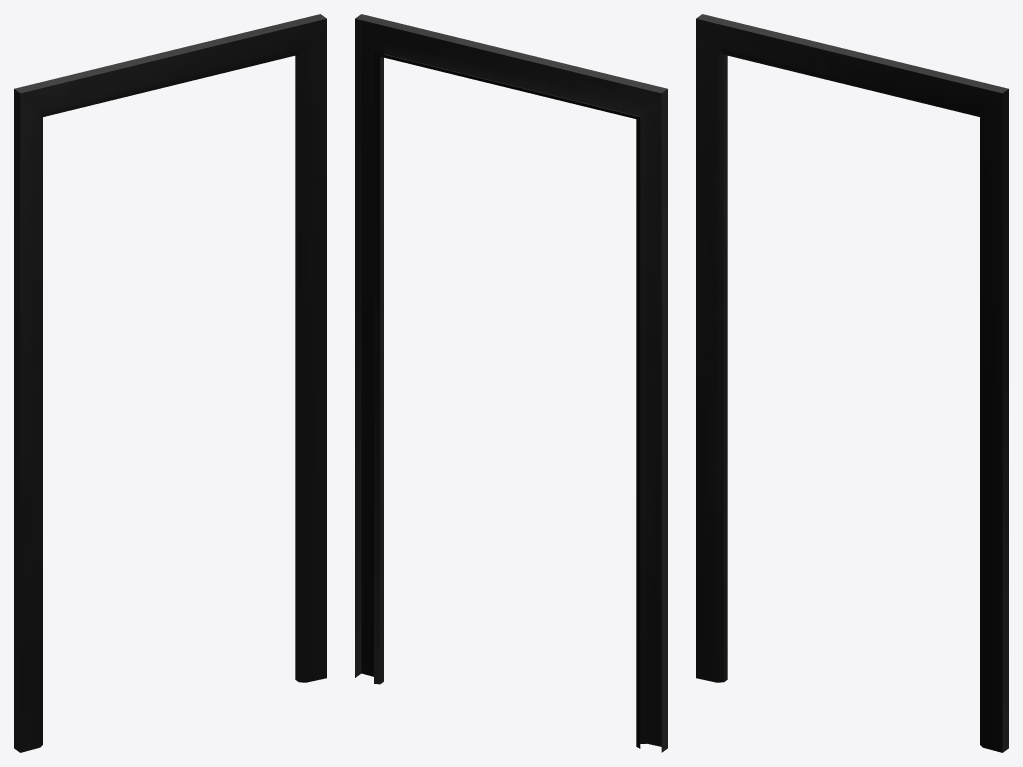
Rendered from door.glb.
3 views of the same model, side by side, from view 1: azimuth 30°, elevation 25°; view 2: azimuth 150°, elevation 25°; view 3: azimuth 330°, elevation 25° (orthographic).
Visible parts, largest first — view 1: MuseumRoom.001; view 2: MuseumRoom.001; view 3: MuseumRoom.001.
Part boxes in pixels (<box>): MuseumRoom.001: <box>14,14,326,752</box>; MuseumRoom.001: <box>355,14,667,752</box>; MuseumRoom.001: <box>696,14,1008,752</box>.
Size of the model in its own units: 0.8045 by 1.65 by 0.0343.
1 material, 1 textured.
